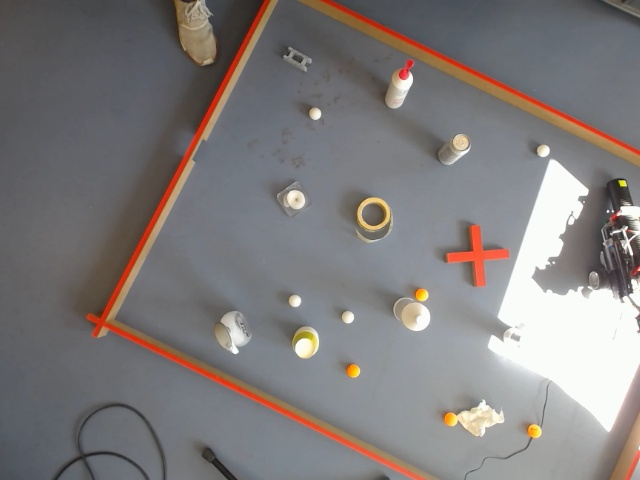orange: (215, 320, 229, 348), (414, 287, 430, 303), (346, 363, 361, 379), (527, 424, 542, 440), (443, 411, 457, 427)
robot: (599, 172, 640, 428)
white: (400, 301, 432, 333), (294, 327, 319, 360), (282, 187, 307, 215), (215, 316, 230, 349), (220, 333, 235, 353), (534, 142, 551, 159), (340, 309, 356, 325), (307, 106, 323, 122), (287, 293, 303, 309)
